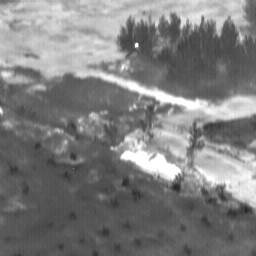aircraft: (136, 44, 138, 46)
